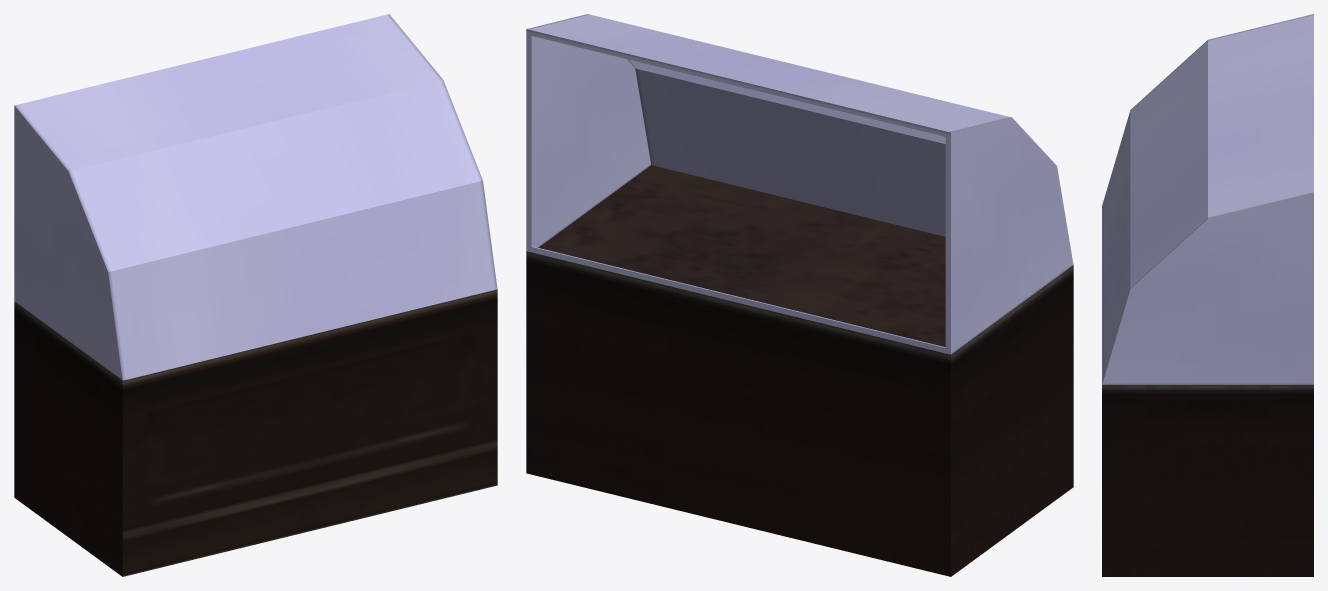
File: DisplayCounter01.obj
The picture shows the model from 3 angles, left to right: view 1: azimuth 30°, elevation 25°; view 2: azimuth 150°, elevation 25°; view 3: azimuth 270°, elevation 25°; orthographic projection. The views are drawn at different scales.
Visible parts, largest first — view 1: DisplayCounter01; view 2: DisplayCounter01; view 3: DisplayCounter01.
Part boxes in pixels (x1=…): DisplayCounter01: x1=14, y1=14, x2=497, y2=576; DisplayCounter01: x1=526, y1=14, x2=1073, y2=576; DisplayCounter01: x1=1102, y1=14, x2=1313, y2=576.
Bounding box in the file's own units: 1.5 × 1.5 × 0.75.
